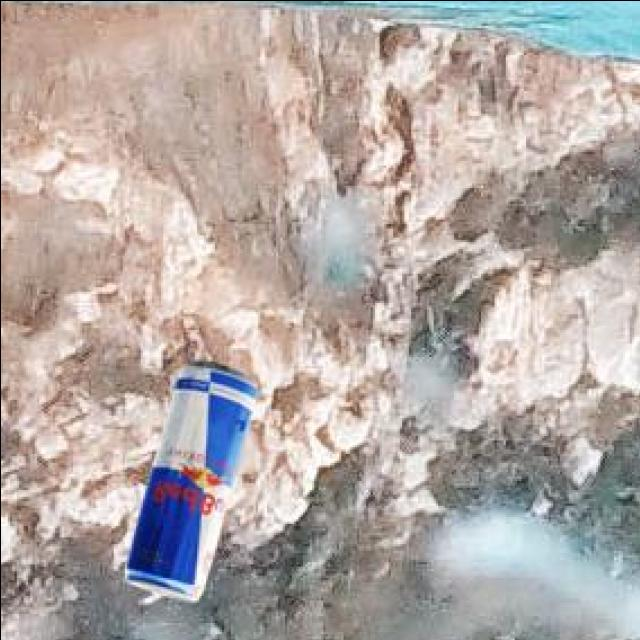logam: (121, 364, 254, 607)
